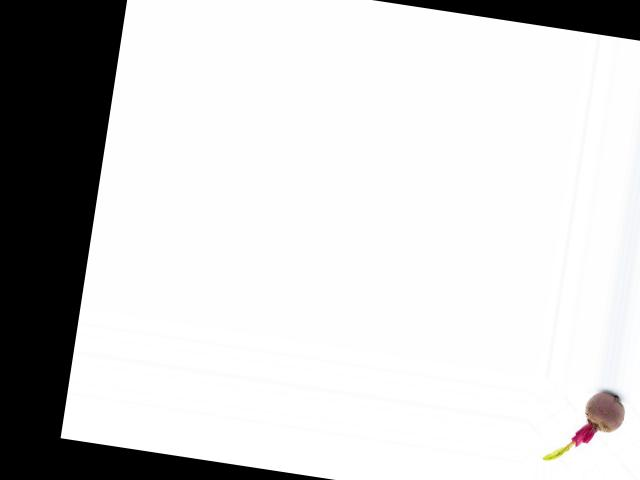beet: (543, 385, 628, 470)
